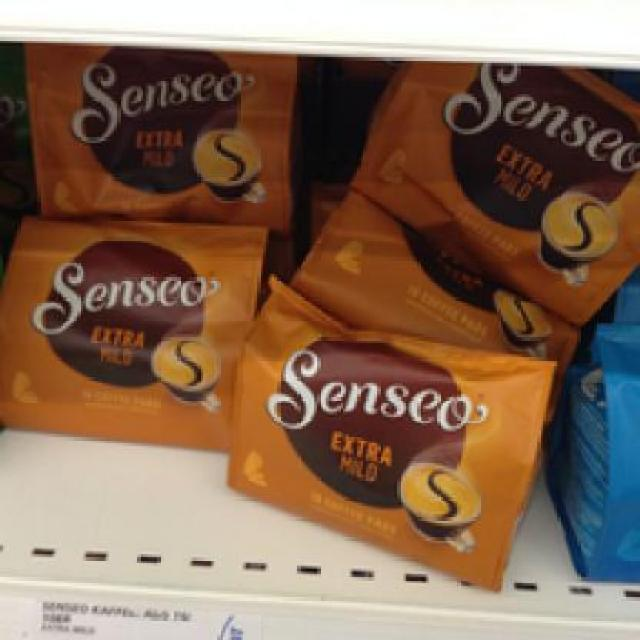Coffee: (220, 272, 554, 592), (348, 57, 638, 326), (0, 212, 263, 448), (19, 37, 292, 220)
